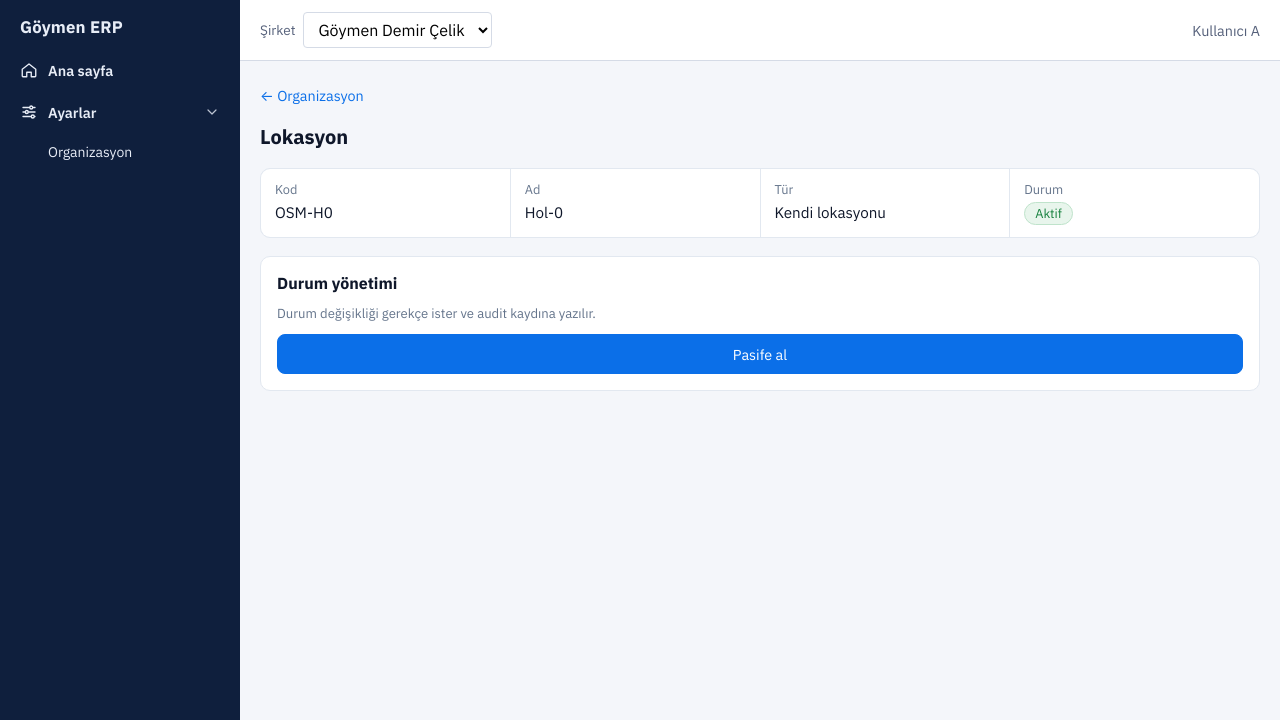
Test case: a successful change › sends the contract body and then RE-READS the record
Click the button "Pasife al" at (760, 354), box [277,334,1243,374]
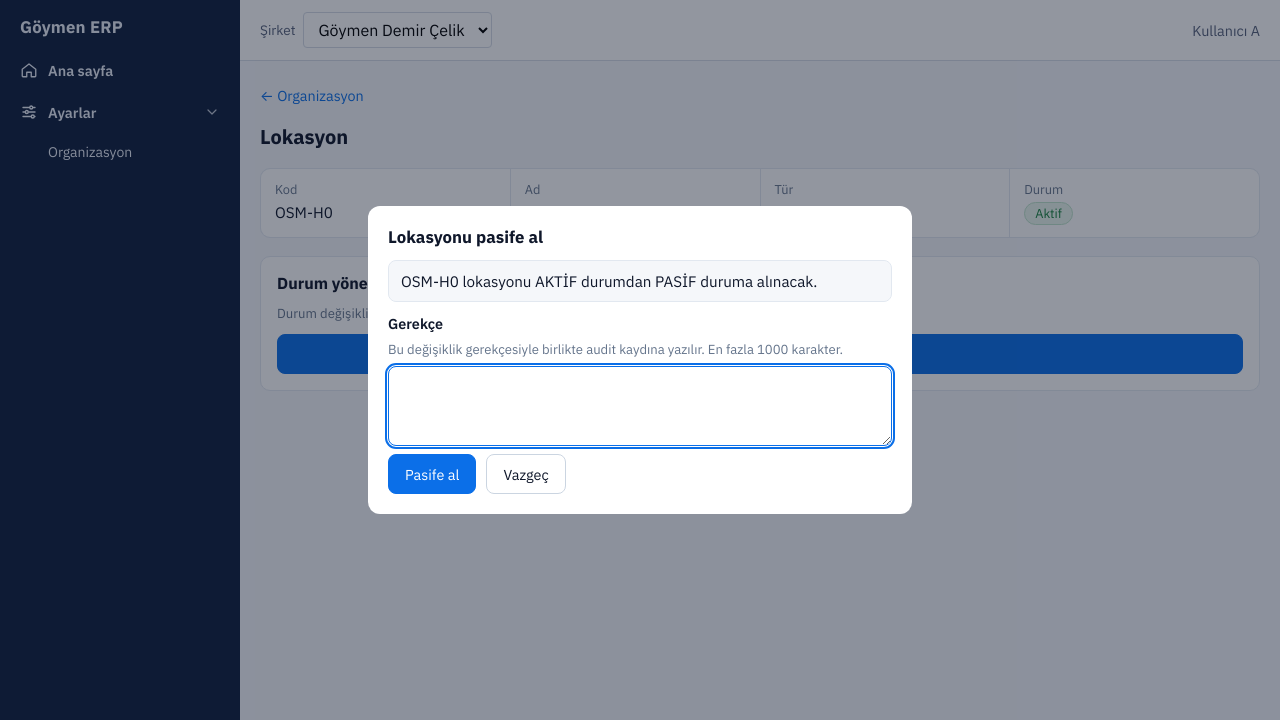
Type "Bakım için pasife alma" into the text box labelled "Gerekçe" at (640, 406), box [388,366,892,446]
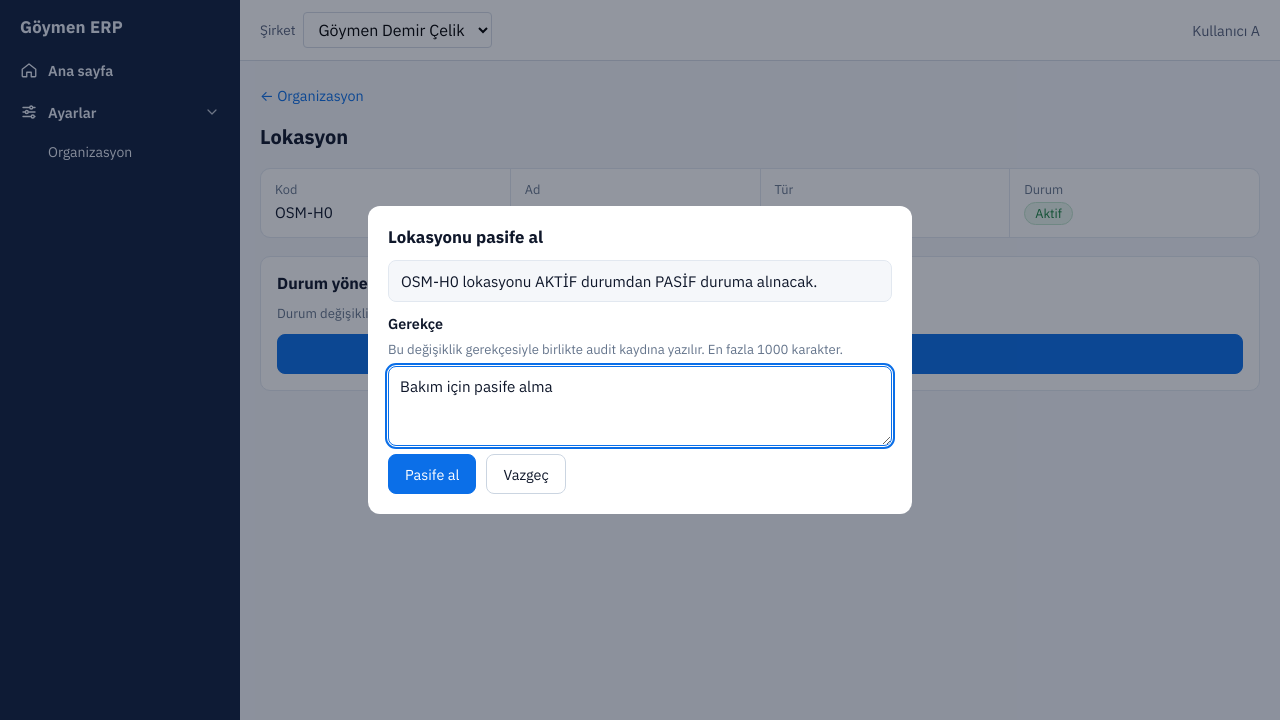
Click the button "Pasife al" below "Lokasyonu pasife al" at (432, 474), box [388,454,476,494]
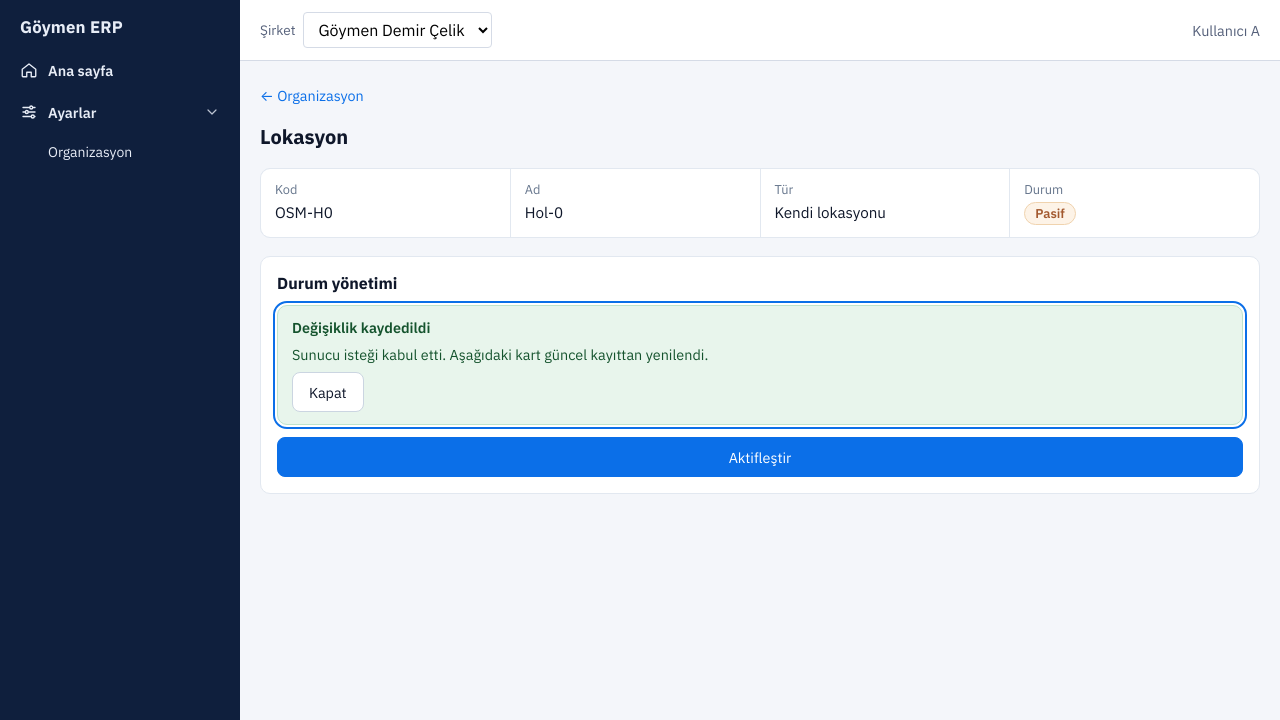
Expected: the text "Değişiklik kaydedildi" is shown, [292,318,430,337]
Expected: the text "Pasif" is shown, [1024,202,1076,225]
